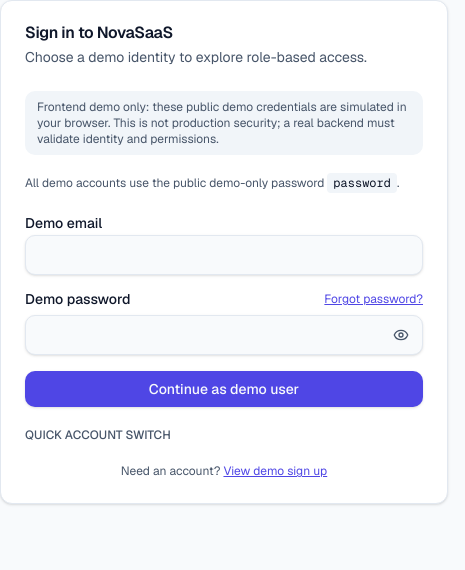
Test: LoginForm › announces required field validation and focuses the first invalid field
Click the button "Continue as demo user": (224, 389) 25,371 -> 423,407
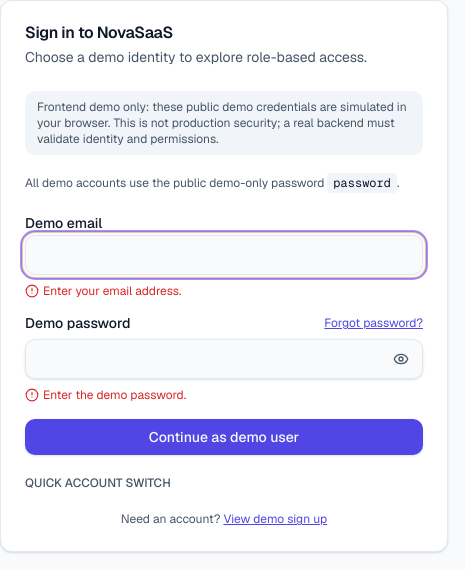
Check: the text "Enter your email address." is shown, box 25,283 -> 182,299
